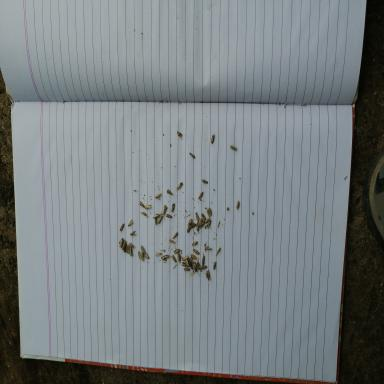pbw: (192, 248, 200, 255), (205, 220, 212, 228), (129, 242, 136, 250), (195, 212, 200, 223), (161, 254, 170, 260), (140, 245, 146, 254), (197, 265, 207, 270), (163, 205, 168, 215), (230, 144, 237, 151), (142, 211, 149, 218), (166, 189, 174, 195), (201, 213, 207, 221), (188, 222, 196, 228), (122, 239, 126, 251), (197, 192, 203, 200), (177, 131, 183, 139), (144, 203, 152, 209), (190, 254, 198, 260), (157, 216, 163, 224), (119, 223, 124, 232), (205, 272, 210, 281), (181, 262, 190, 267), (201, 255, 205, 266), (155, 192, 162, 198), (171, 255, 177, 262), (130, 230, 137, 236), (177, 182, 183, 189), (236, 200, 240, 210), (185, 259, 190, 267), (208, 207, 212, 217), (120, 238, 124, 248), (168, 239, 176, 244), (200, 220, 205, 228), (211, 134, 215, 144), (172, 232, 178, 238), (189, 152, 195, 158), (193, 265, 197, 274), (171, 203, 175, 212), (144, 253, 150, 259), (173, 249, 180, 254), (128, 219, 133, 226), (152, 214, 160, 218), (188, 218, 192, 226), (198, 218, 202, 226), (187, 225, 191, 233), (189, 262, 193, 270), (189, 257, 193, 265), (177, 252, 180, 262), (205, 217, 210, 223), (202, 179, 208, 184), (192, 241, 198, 246), (139, 201, 144, 207), (216, 248, 220, 255), (205, 246, 212, 250), (181, 256, 188, 260), (213, 261, 216, 270), (206, 270, 210, 276), (166, 214, 172, 218), (154, 252, 162, 255), (138, 251, 141, 259), (206, 210, 210, 216), (196, 224, 199, 232), (189, 272, 195, 276), (154, 218, 157, 225), (127, 244, 129, 254), (188, 258, 192, 263), (130, 247, 132, 256), (194, 262, 197, 268), (184, 268, 190, 271), (141, 252, 143, 261), (197, 261, 200, 267), (125, 245, 127, 252), (124, 246, 126, 252)
